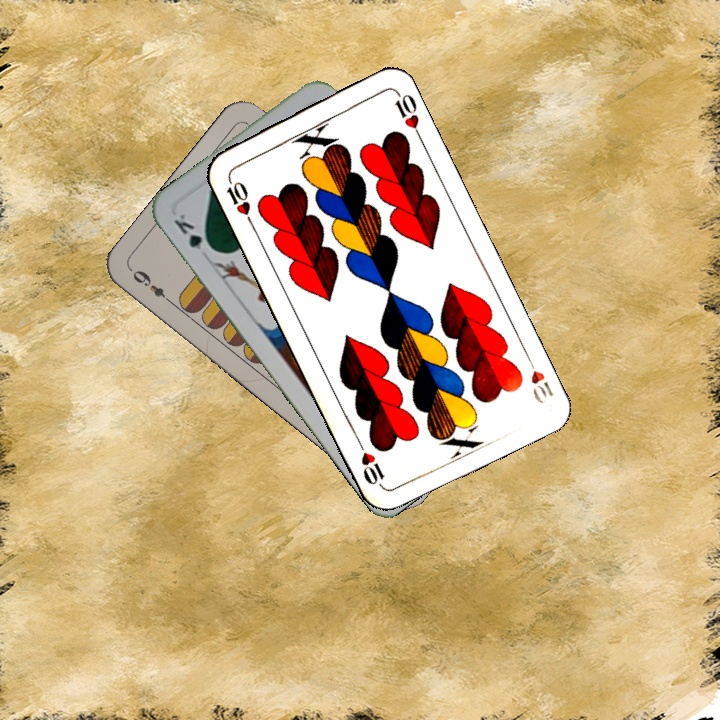E9: (128, 265, 176, 308)
GK: (170, 209, 217, 256)
H10: (222, 172, 256, 227), (521, 349, 557, 399)
